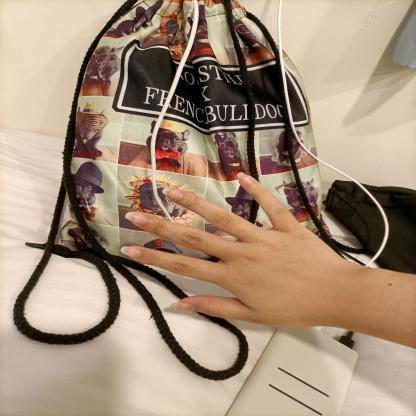bare_hand: (114, 166, 380, 346)
